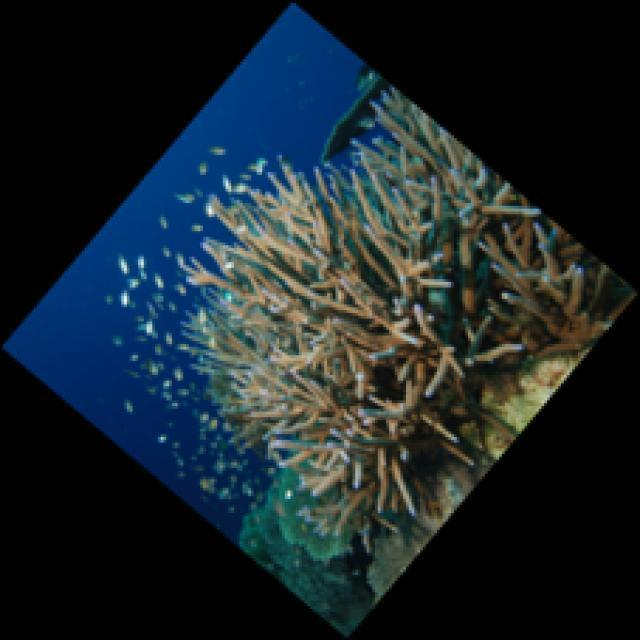Healthy: (191, 165, 485, 541), (373, 85, 543, 252), (479, 217, 617, 377)
